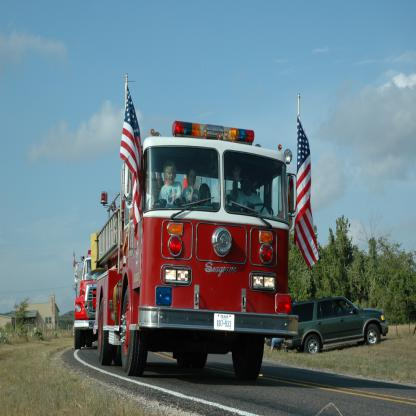Car: (264, 296, 388, 354)
Truck: (91, 73, 319, 381), (73, 249, 103, 350)
